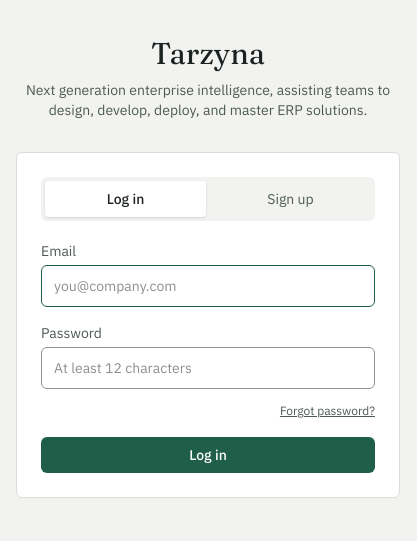
Test: LoginPage login flow › displays the generic backend error on invalid credentials
In the field labelled "Email": [208, 286] box left=41, top=265, right=375, bottom=307, type "a@b.com"
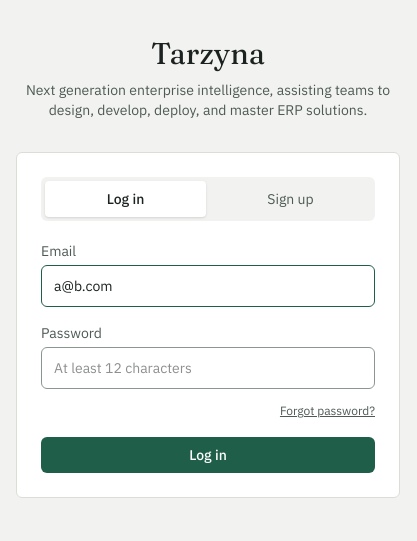
In the password field labelled "Password": [208, 368] box left=41, top=347, right=375, bottom=389, type "wrong-password-value"
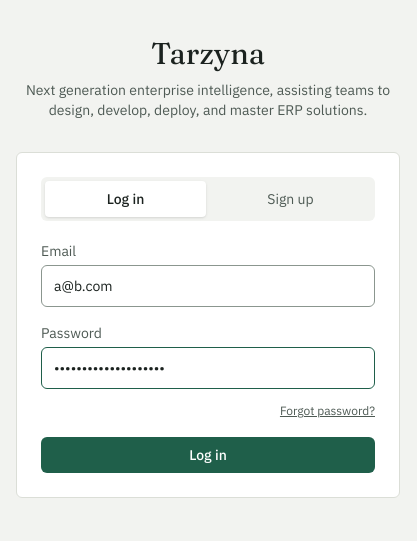
Click the button "Log in" below "Forgot password?": [208, 455] box left=41, top=437, right=375, bottom=473
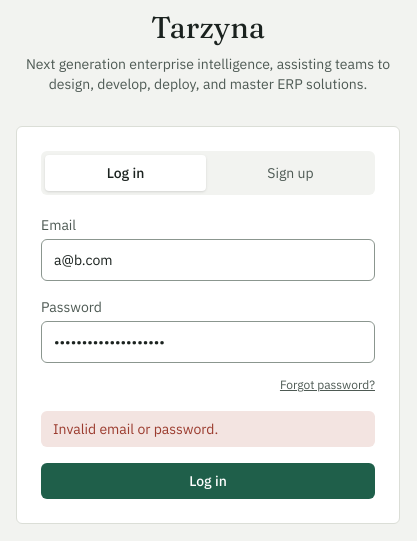
Result: the message reads "Invalid email or password." at left=53, top=420, right=218, bottom=438
